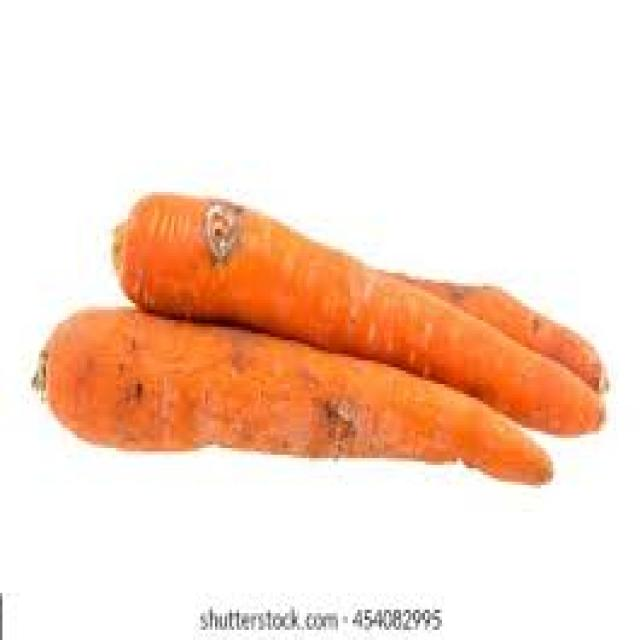Stale_Carrot: (133, 196, 449, 353), (98, 327, 388, 457)
